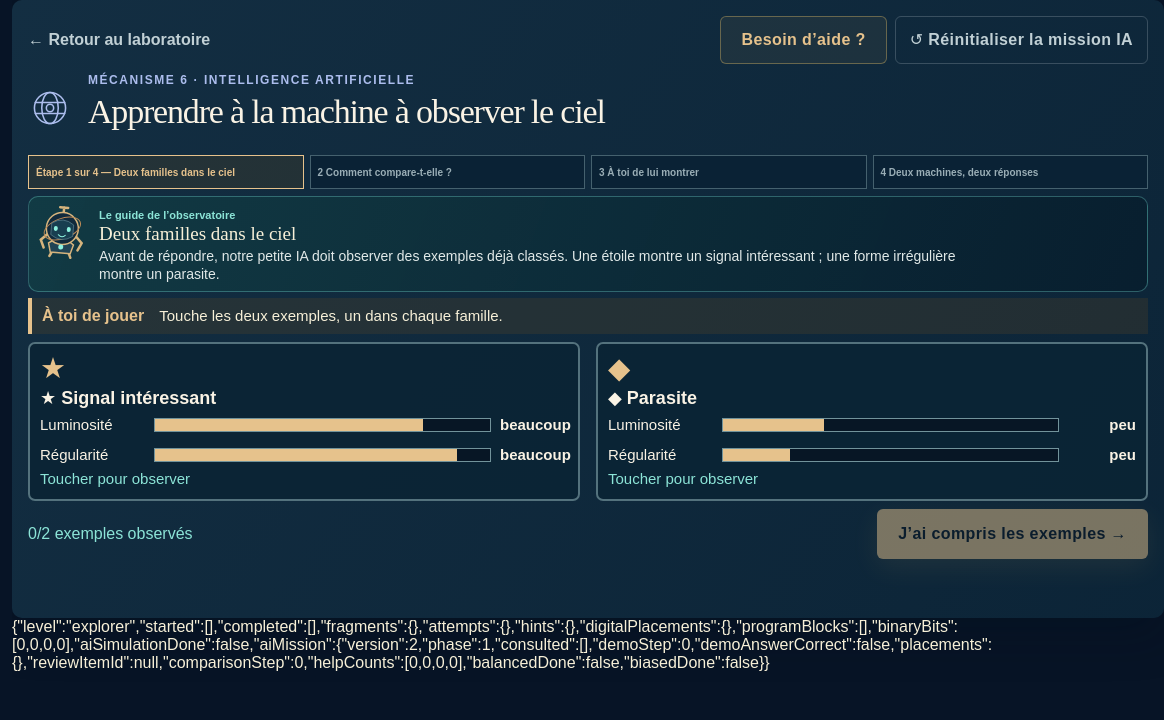
mission IA guidée › actualise le texte explicatif sous les cartes à chaque exemple sélectionné
This screenshot has width=1164, height=720.
Click the button that starts with "★ Signal intéressant". click: click(304, 422)
box: [28,342,580,502]
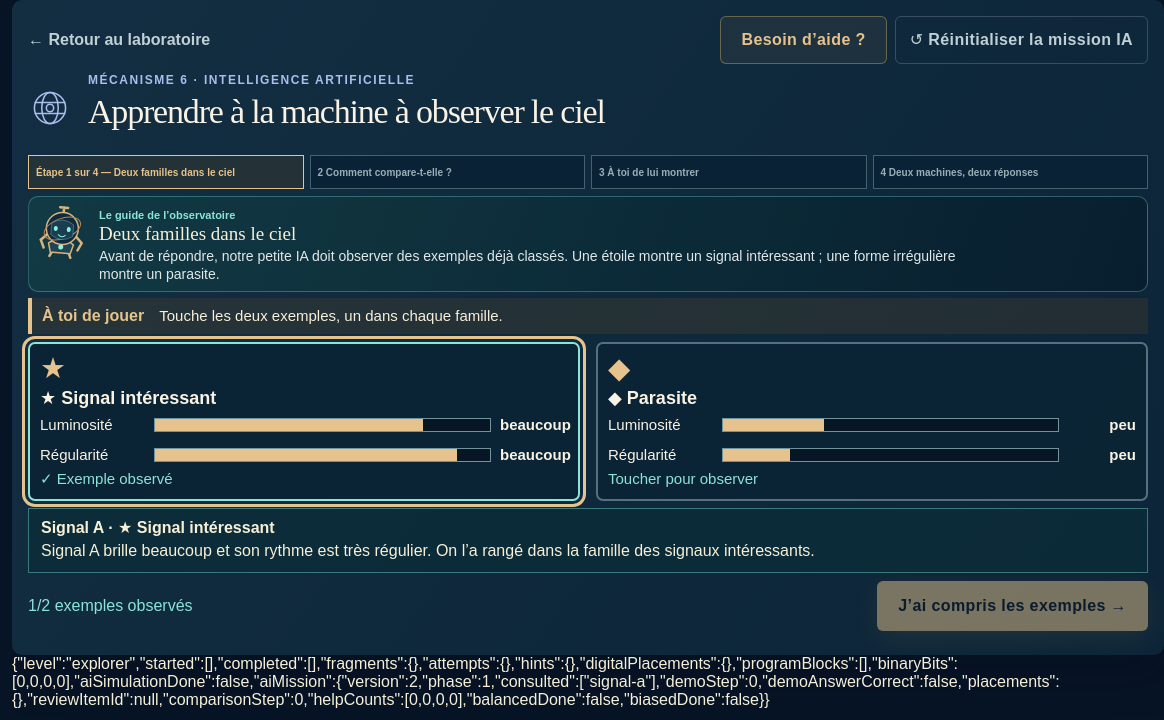
expect the message named "Exemple sélectionné" shows "Signal A": met, box [41,520,104,536]
expect the message named "Exemple sélectionné" shows "brille beaucoup": met, box [41,542,815,560]
Click the button that starts with "◆ Parasite". click: click(872, 422)
box: [596,342,1148,502]
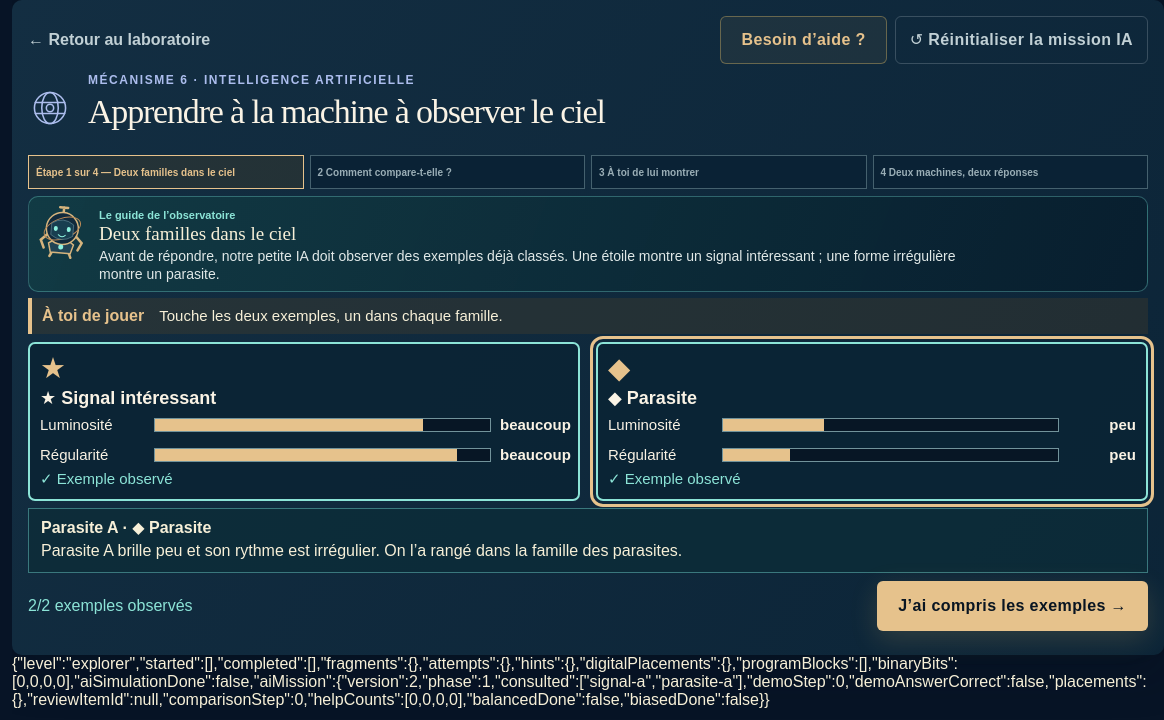
expect the message named "Exemple sélectionné" shows "Parasite A": met, box [41,520,118,536]
expect the message named "Exemple sélectionné" shows "brille peu": met, box [41,542,682,560]
expect the text "Exemple sélectionné" no longer shows "Signal A": met
